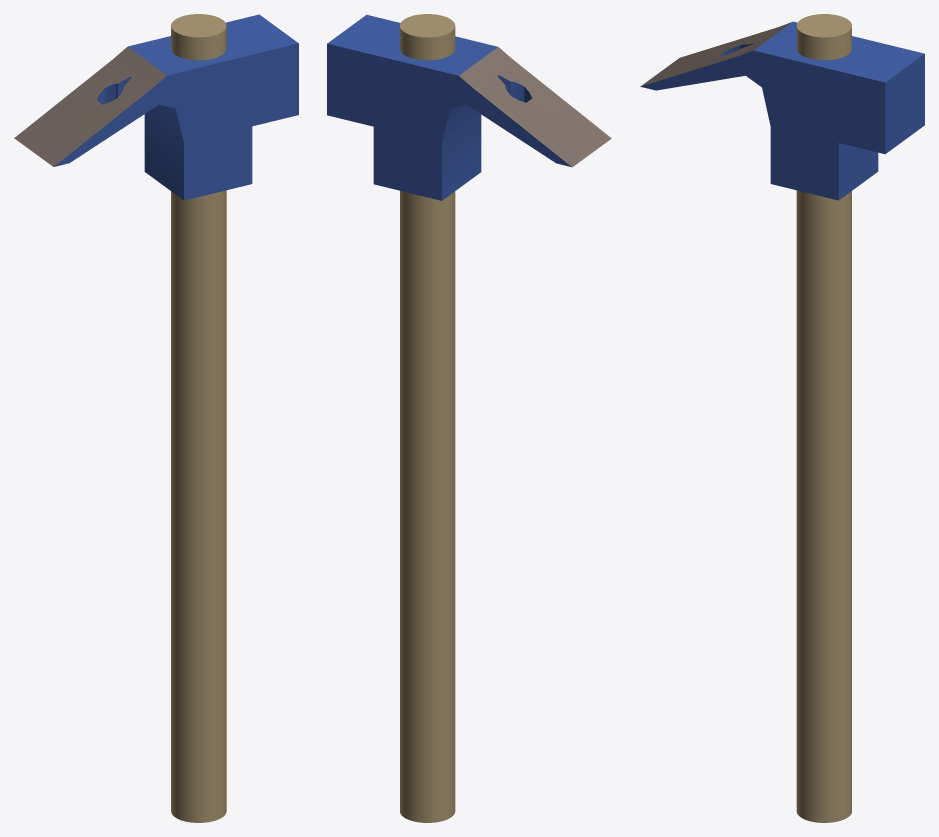
File: cekıc222.fbx
The picture shows the model from 3 angles, left to right: view 1: azimuth 30°, elevation 25°; view 2: azimuth 150°, elevation 25°; view 3: azimuth 330°, elevation 25°; orthographic projection.
Visible parts, largest first — view 1: keser; view 2: keser; view 3: keser.
Part boxes in pixels (left/top/right/bottom): keser: left=14, top=14, right=298, bottom=822; keser: left=327, top=14, right=611, bottom=822; keser: left=640, top=14, right=924, bottom=822.
Bounding box in the file's own units: 241 × 739 × 67.4.
